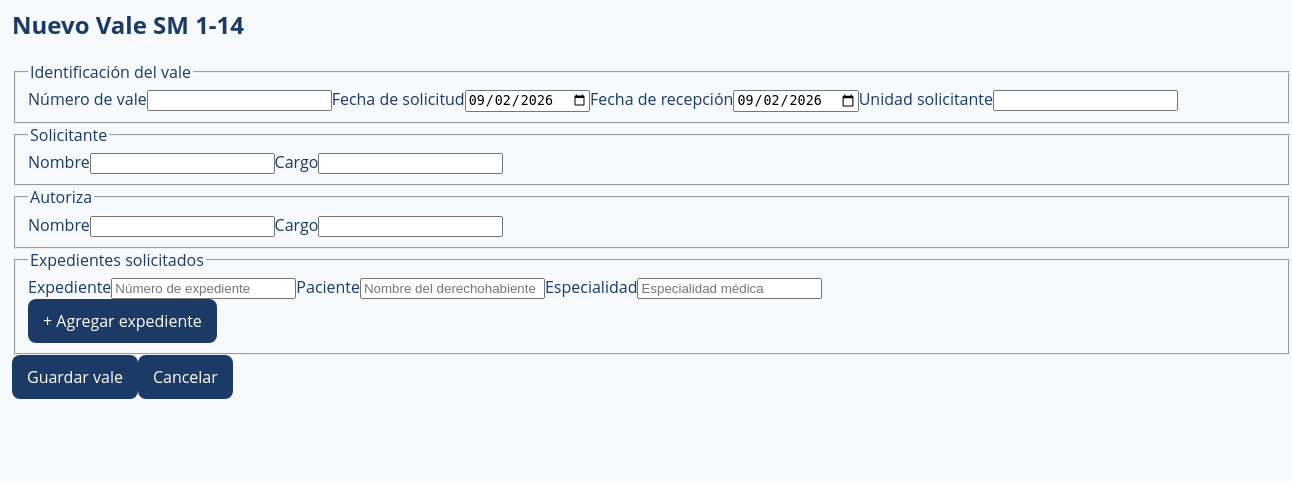
Test: ValeArchivoForm › agrega fila de expediente al hacer clic en "+ Agregar expediente"
The width and height of the screenshot is (1292, 481).
What coordinates should you click on to do the following:
click the button labelled "+ Agregar expediente"
I would click on:
 (122, 321)
Its box is [28,299,217,343].
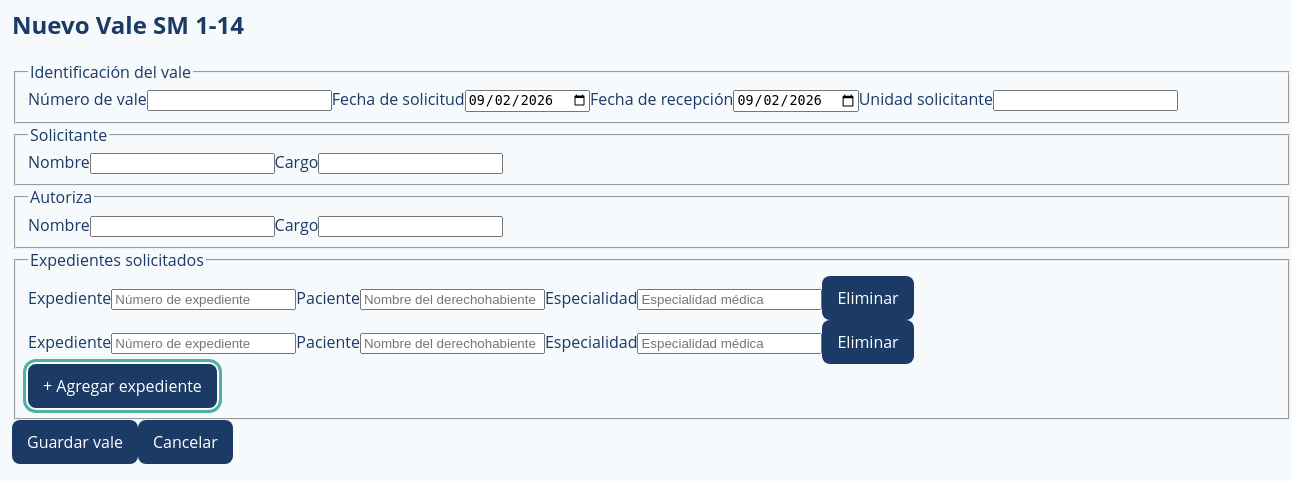
Result: the element named "Expediente 2" is shown at [28,320,914,364]
